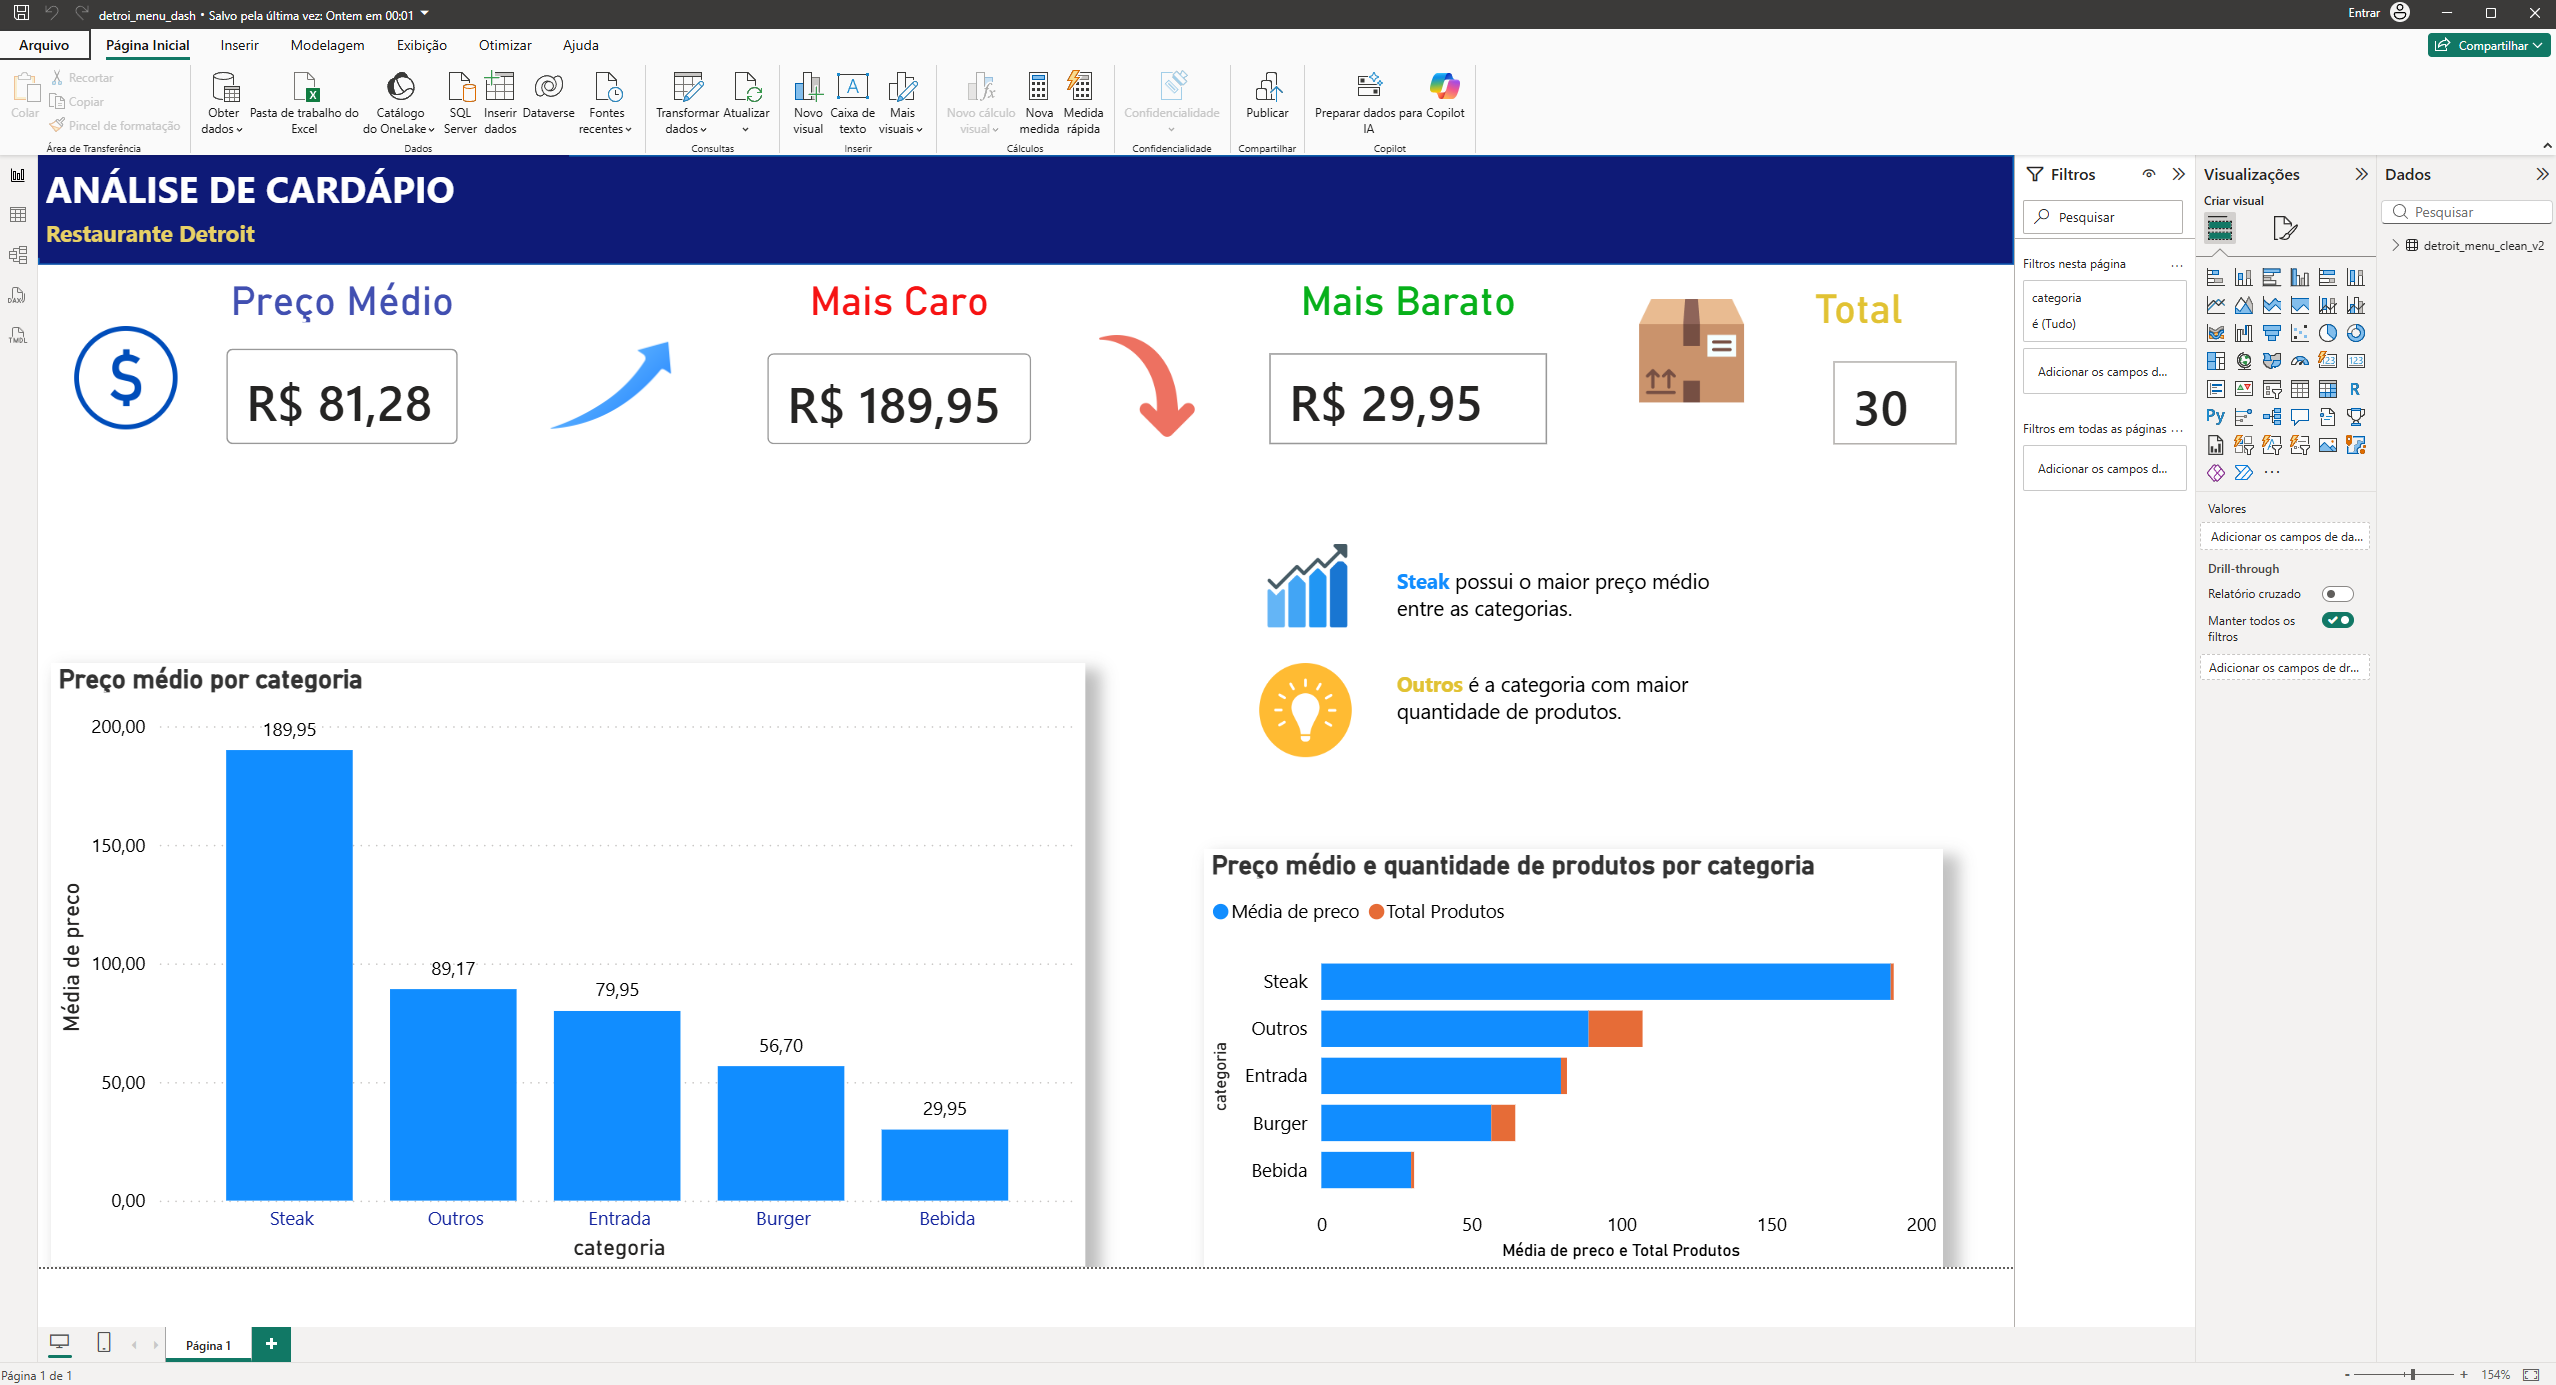

What the dashboard file says about the page in this screenshot:
{"tool":"powerbi","page":{"name":"Página 1","canvas":[1280,720],"ordinal":0},"visuals":[{"type":"shape","box":[0,0,1280,71.3],"z":0},{"type":"cardVisual","title":"Preço Médio","fields":{"Data":["detroit_menu_clean_v2.preco Medio"]},"box":[104.9,78.4,184.6,126.3],"z":1000},{"type":"cardVisual","title":"Mais Caro","fields":{"Data":["detroit_menu_clean_v2.Preco Max"]},"box":[455.4,78.4,205.3,126.3],"z":2000},{"type":"cardVisual","title":"Mais Barato","fields":{"Data":["detroit_menu_clean_v2.Preco Min"]},"box":[780.6,78.4,214.4,126.3],"z":3000},{"type":"cardVisual","title":"Total","fields":{"Data":["detroit_menu_clean_v2.Total Produtos"]},"box":[1145.9,83.6,114.7,121.1],"z":4000},{"type":"columnChart","title":"Preço médio por categoria","fields":{"Category":["detroit_menu_clean_v2.categoria"],"Y":["Avg(detroit_menu_clean_v2.preco)"]},"box":[8.4,329.1,670.4,391.3],"z":5000},{"type":"barChart","title":"Preço médio e quantidade de produtos por categoria","fields":{"Category":["detroit_menu_clean_v2.categoria"],"Y":["Avg(detroit_menu_clean_v2.preco)","detroit_menu_clean_v2.Total Produtos"]},"box":[755.3,449.6,479.4,270.8],"z":6000},{"type":"textbox","box":[0,35.6,174.9,31.1],"z":7000},{"type":"image","box":[8.4,110.8,96.5,67.4],"z":8000},{"type":"image","box":[305.1,108.2,132.1,82.3],"z":9000},{"type":"image","box":[650.4,116.6,136.7,66.1],"z":10000},{"type":"image","box":[989.1,93.3,163.9,67.4],"z":11000},{"type":"textbox","box":[0,0,344,44.7],"z":12000},{"type":"image","box":[755.3,252,134.1,54.4],"z":13000},{"type":"textbox","box":[875.1,262.3,218.3,44.7],"z":14000},{"type":"image","box":[787,329.1,68,60.9],"z":15000},{"type":"textbox","box":[875.1,329.1,218.3,60.9],"z":16000}]}

Visuals, with their boxes on the page's 1280x720 design canvas (x1, y1, x2, y2). These are canvas units, not pixel positions in the 2556x1385 screenshot, which may show the page scaled, cropped or inside an application window:
shape: detection(0, 0, 1280, 71)
"Preço Médio" cardVisual: detection(105, 78, 290, 205)
"Mais Caro" cardVisual: detection(455, 78, 661, 205)
"Mais Barato" cardVisual: detection(781, 78, 995, 205)
"Total" cardVisual: detection(1146, 84, 1261, 205)
"Preço médio por categoria" columnChart: detection(8, 329, 679, 720)
"Preço médio e quantidade de produtos por categoria" barChart: detection(755, 450, 1235, 720)
textbox: detection(0, 36, 175, 67)
image: detection(8, 111, 105, 178)
image: detection(305, 108, 437, 190)
image: detection(650, 117, 787, 183)
image: detection(989, 93, 1153, 161)
textbox: detection(0, 0, 344, 45)
image: detection(755, 252, 889, 306)
textbox: detection(875, 262, 1093, 307)
image: detection(787, 329, 855, 390)
textbox: detection(875, 329, 1093, 390)
